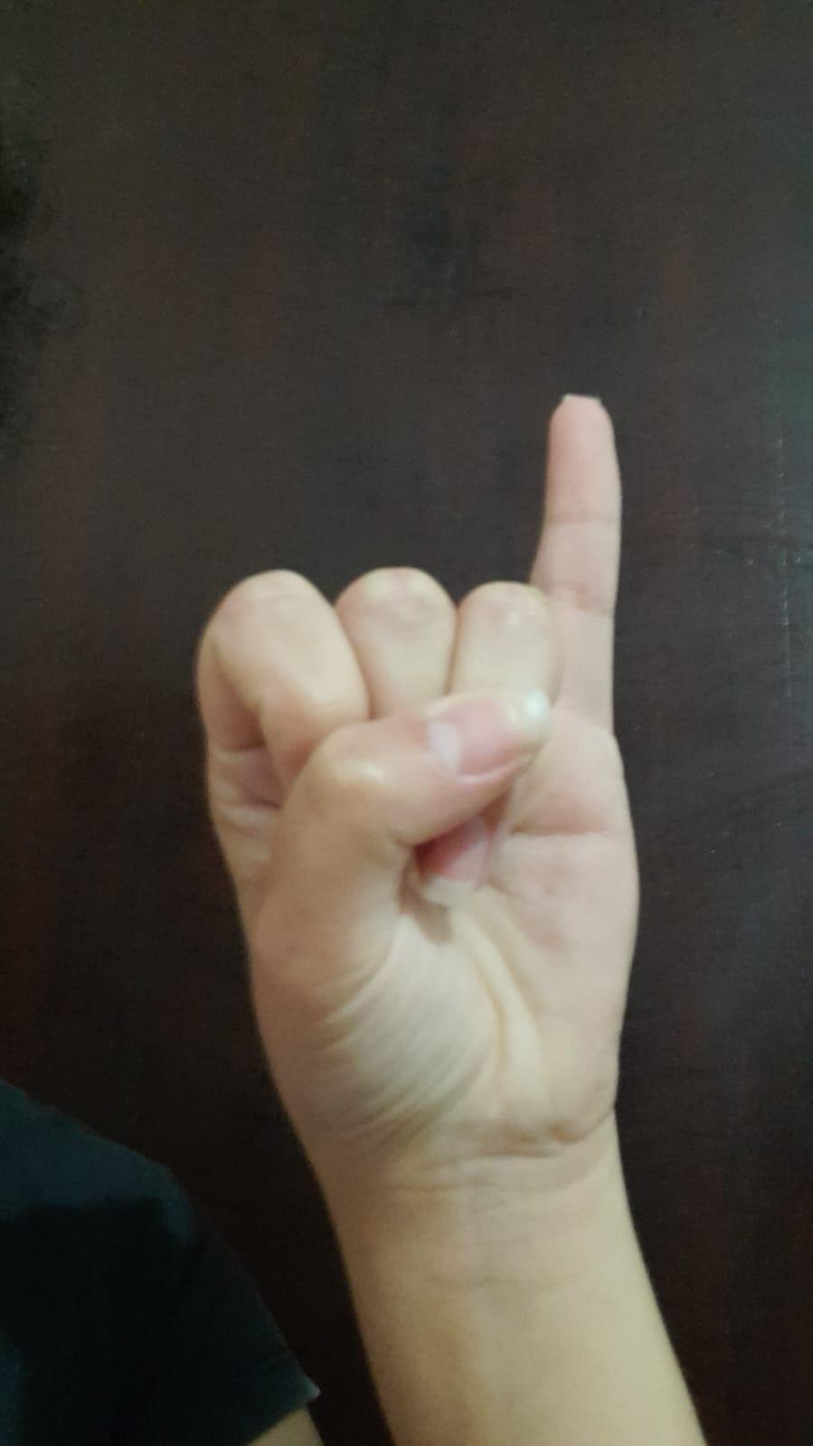I: (154, 371, 665, 1167)
